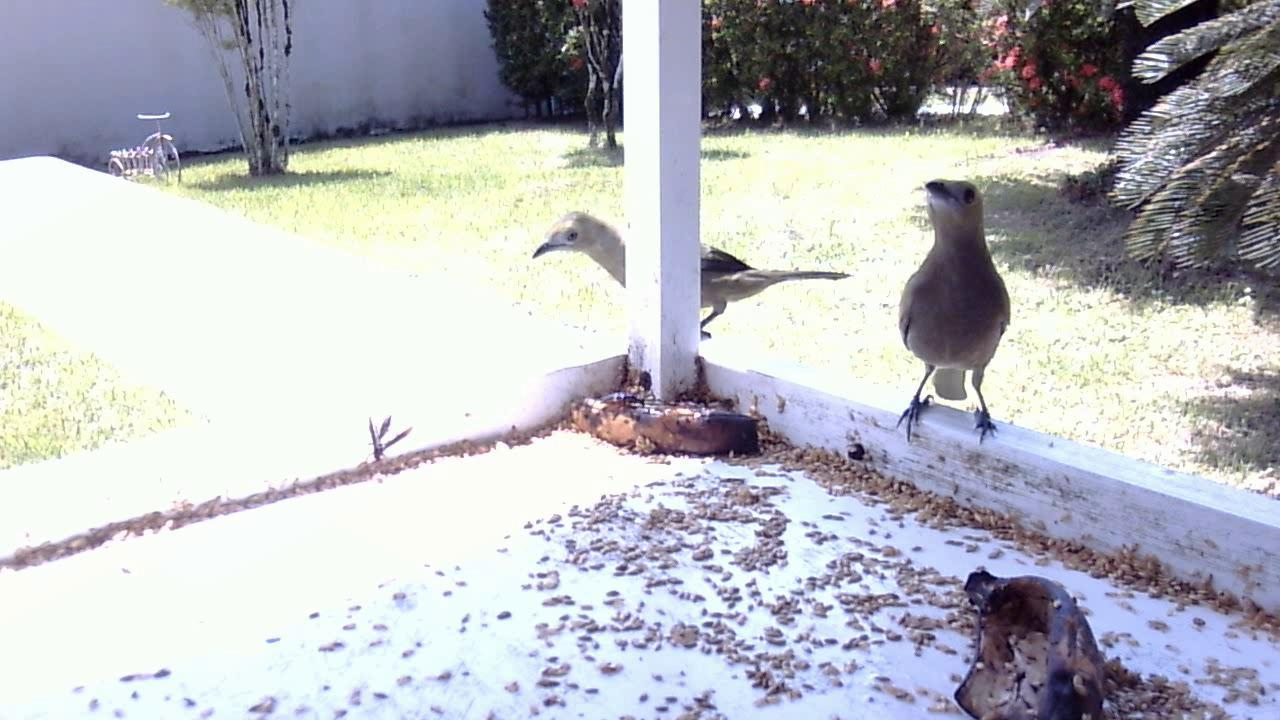sanhaco_do_coqueiro: (526, 206, 855, 354), (885, 174, 1015, 453)
